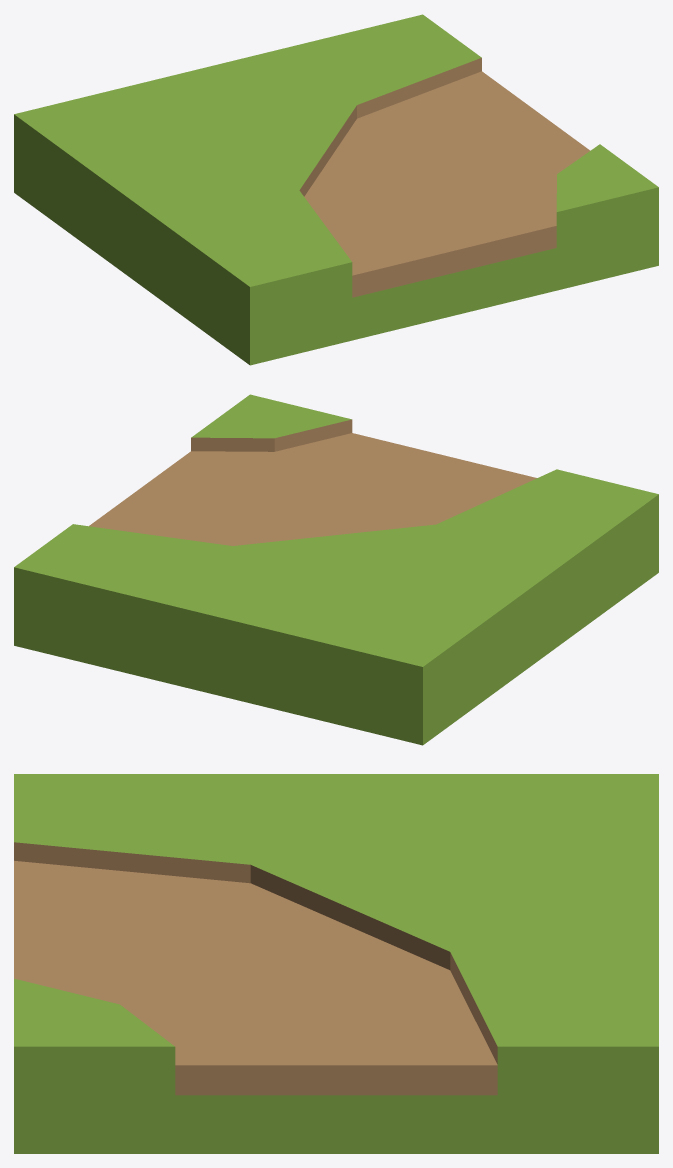
The model's file is tile178.dae.
3 views of the same model, one above another, from view 1: azimuth 30°, elevation 25°; view 2: azimuth 150°, elevation 25°; view 3: azimuth 270°, elevation 25° (orthographic). The views are drawn at different scales.
Parts seen in each view (by area): view 1: tile178; view 2: tile178; view 3: tile178.
Part boxes in pixels (x1,y1,x2,y2): tile178: (14, 14, 658, 365); tile178: (14, 394, 658, 745); tile178: (14, 774, 658, 1153).
Bounding box in the file's own units: 1 × 0.1833 × 1.
